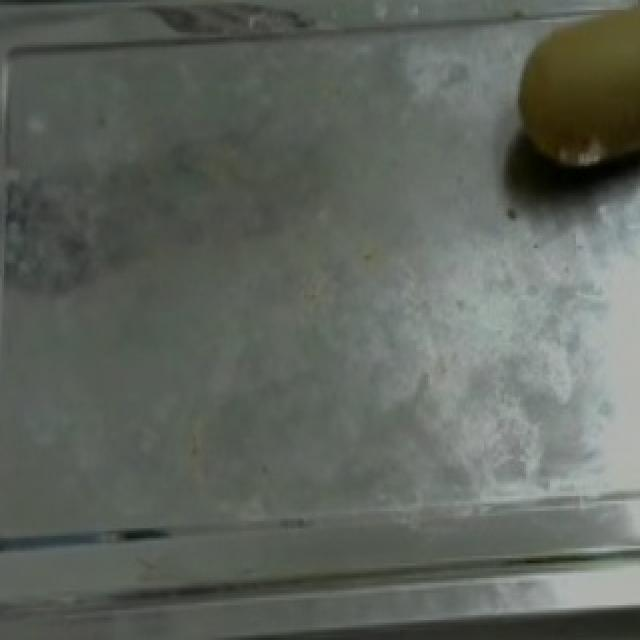Fruit: (502, 0, 640, 179)
